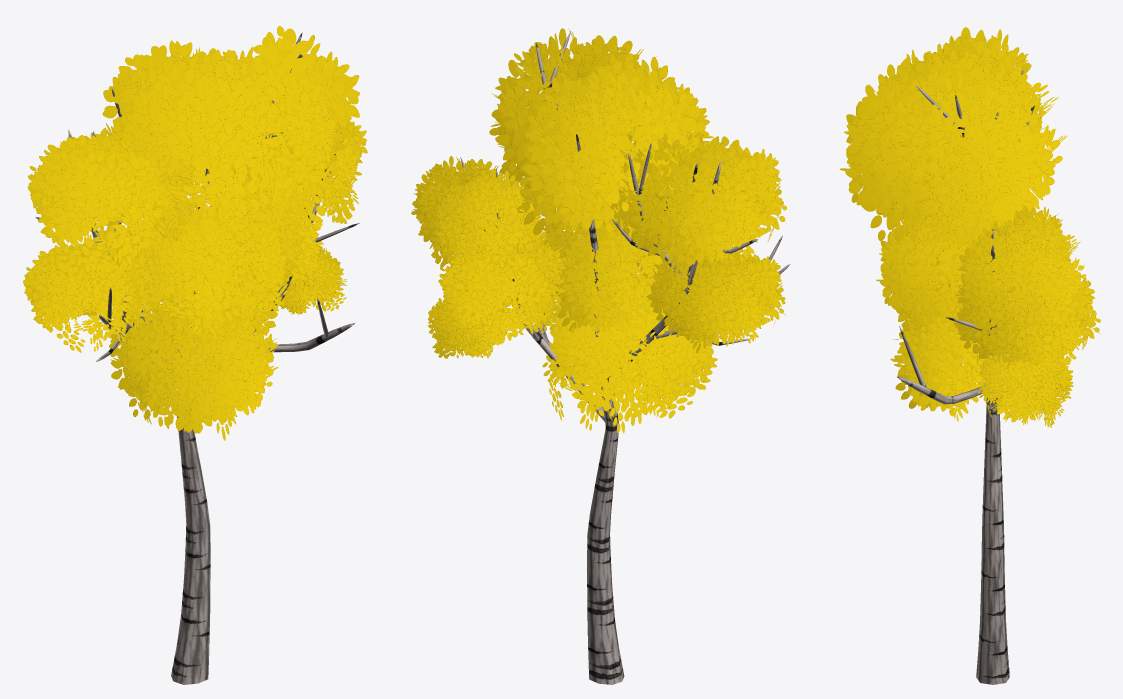
Rendered from BirchTree_3.glb.
The picture shows the model from 3 angles, left to right: view 1: azimuth 30°, elevation 25°; view 2: azimuth 150°, elevation 25°; view 3: azimuth 270°, elevation 25°; orthographic projection. The views are drawn at different scales.
Parts seen in each view (by area): view 1: BirchTree_3; view 2: BirchTree_3; view 3: BirchTree_3.
Boxes of the visible parts, <box> form: BirchTree_3: <box>23,26,367,684</box>; BirchTree_3: <box>411,28,790,684</box>; BirchTree_3: <box>839,27,1100,684</box>.
Bounding box in the file's own units: 3.43 × 5.75 × 2.27.
Materials: 2 (2 with a texture image).
